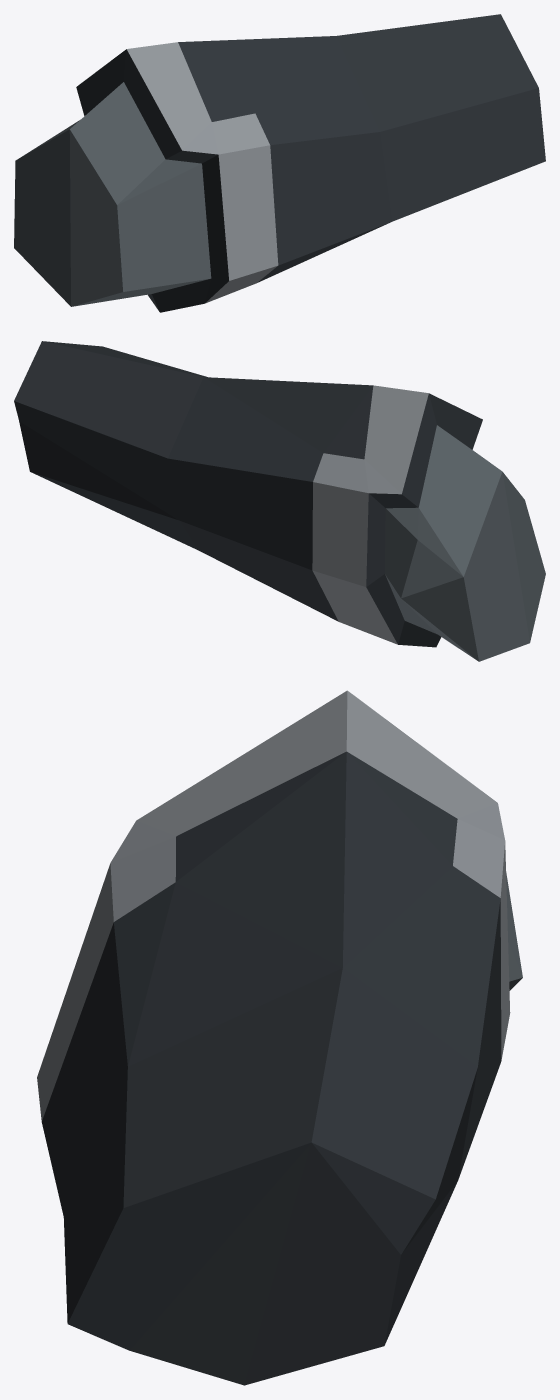
File: Chr_ArmLowerLeft_Male_05_Static.fbx
The picture shows the model from 3 angles, top to bottom: view 1: azimuth 30°, elevation 25°; view 2: azimuth 150°, elevation 25°; view 3: azimuth 270°, elevation 25°; orthographic projection. The views are drawn at different scales.
Visible parts, largest first — view 1: Chr_ArmLowerLeft_Male_05_Static; view 2: Chr_ArmLowerLeft_Male_05_Static; view 3: Chr_ArmLowerLeft_Male_05_Static.
Part boxes in pixels (x1,y1,x2,y2): Chr_ArmLowerLeft_Male_05_Static: (14, 14, 545, 312); Chr_ArmLowerLeft_Male_05_Static: (14, 341, 545, 661); Chr_ArmLowerLeft_Male_05_Static: (37, 690, 522, 1385).
Bounding box in the file's own units: 0.2849 × 0.1544 × 0.1348.
